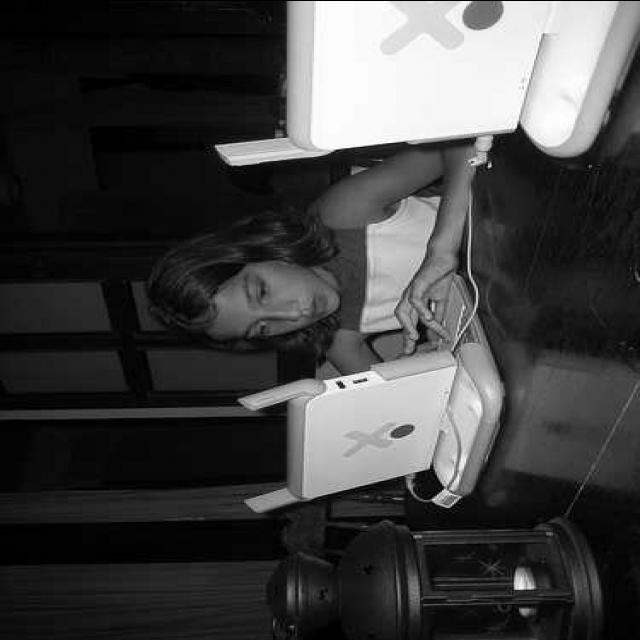laptop: (286, 0, 638, 155), (290, 274, 510, 512)
